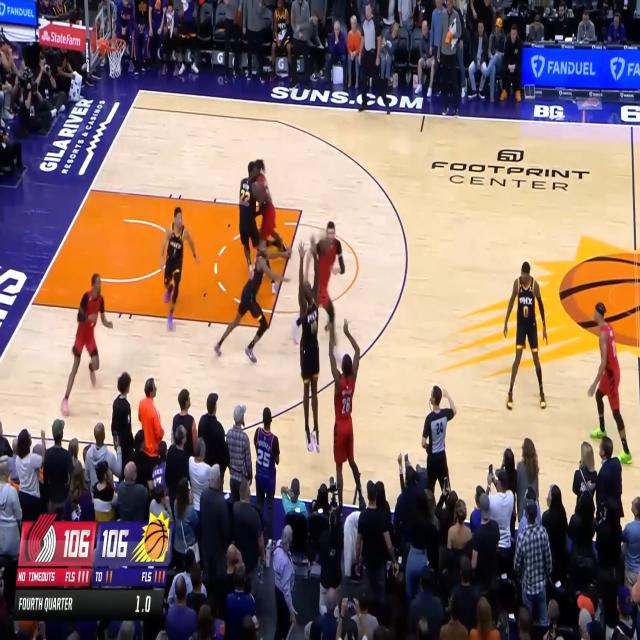Ball: (252, 180, 266, 204)
Hoop: (105, 38, 126, 78)
Overlay: (13, 512, 174, 622)
Player: (211, 233, 293, 364), (325, 316, 367, 518), (59, 273, 115, 417), (588, 302, 634, 468), (294, 218, 345, 364), (504, 259, 548, 412), (298, 230, 322, 456), (238, 160, 278, 293), (160, 205, 198, 330), (252, 158, 288, 255)
Ref: (422, 384, 456, 535), (357, 1, 392, 114)
Scoreboard: (13, 512, 174, 620)
